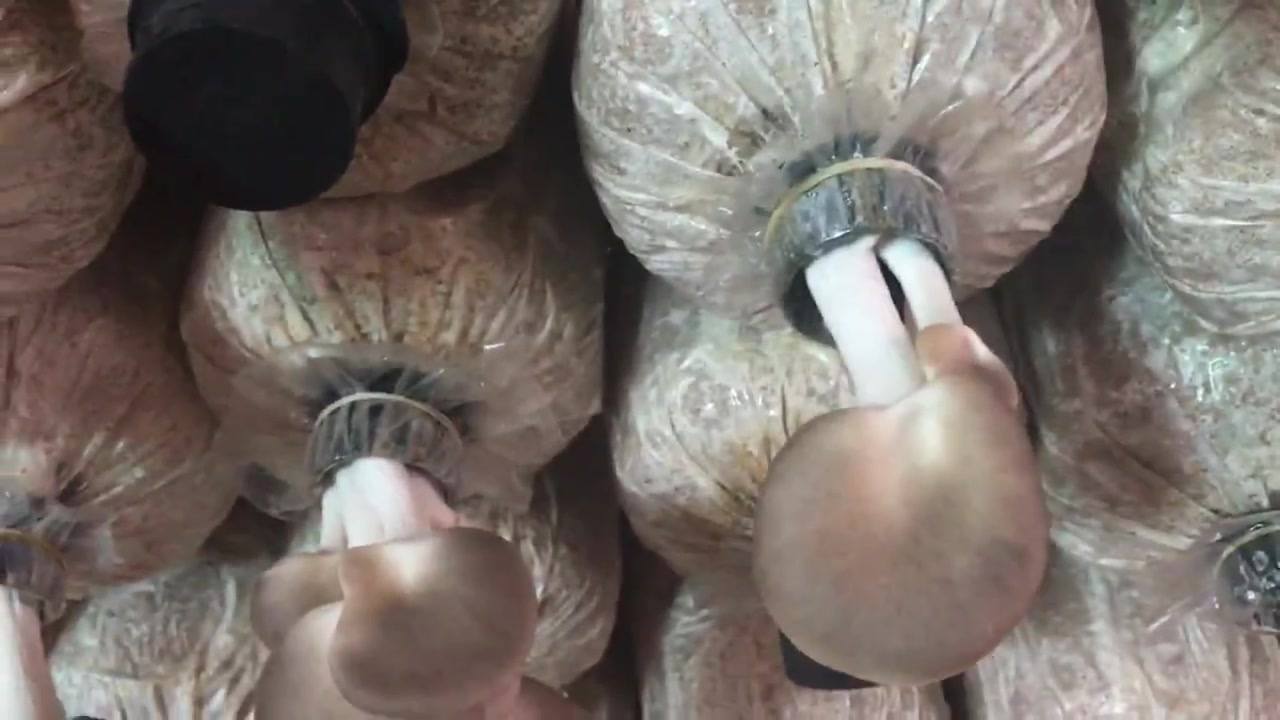nam: (760, 169, 1048, 687), (256, 398, 536, 720)
